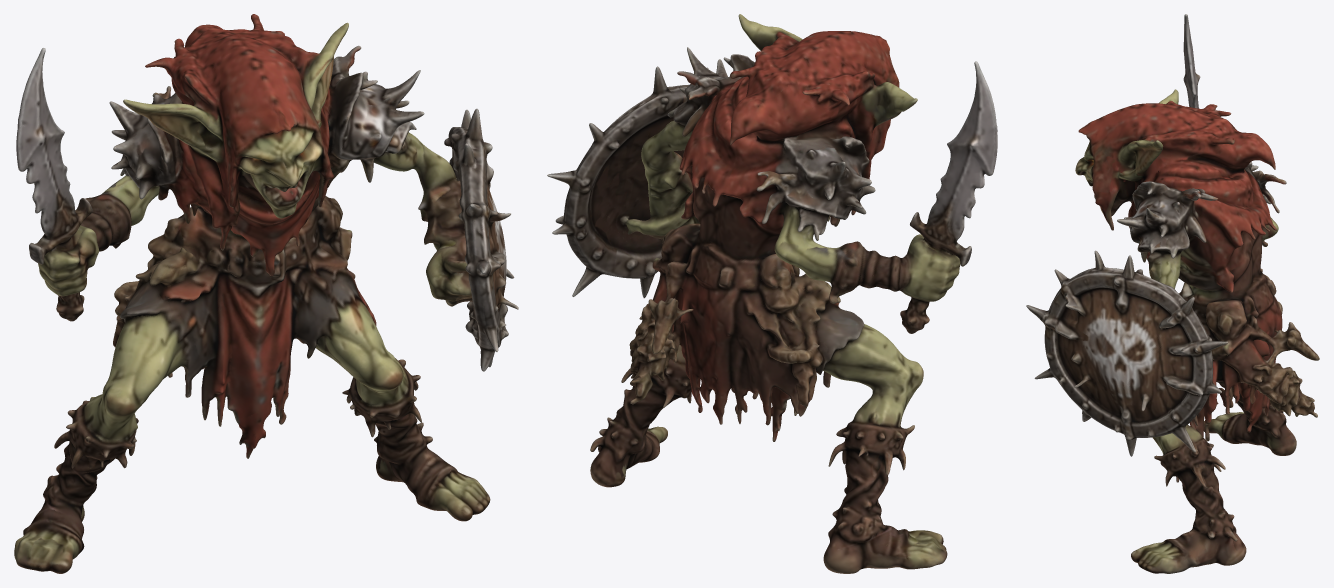
The model's file is goblin.glb.
The picture shows the model from 3 angles, left to right: view 1: azimuth 30°, elevation 25°; view 2: azimuth 150°, elevation 25°; view 3: azimuth 270°, elevation 25°; orthographic projection. The views are drawn at different scales.
Bounding box in the file's own units: 1.78 × 1.9 × 1.24.
Materials: 1 (1 with a texture image).
